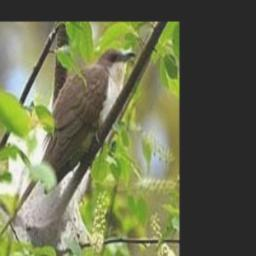Cuckoo: (1, 48, 136, 234)
